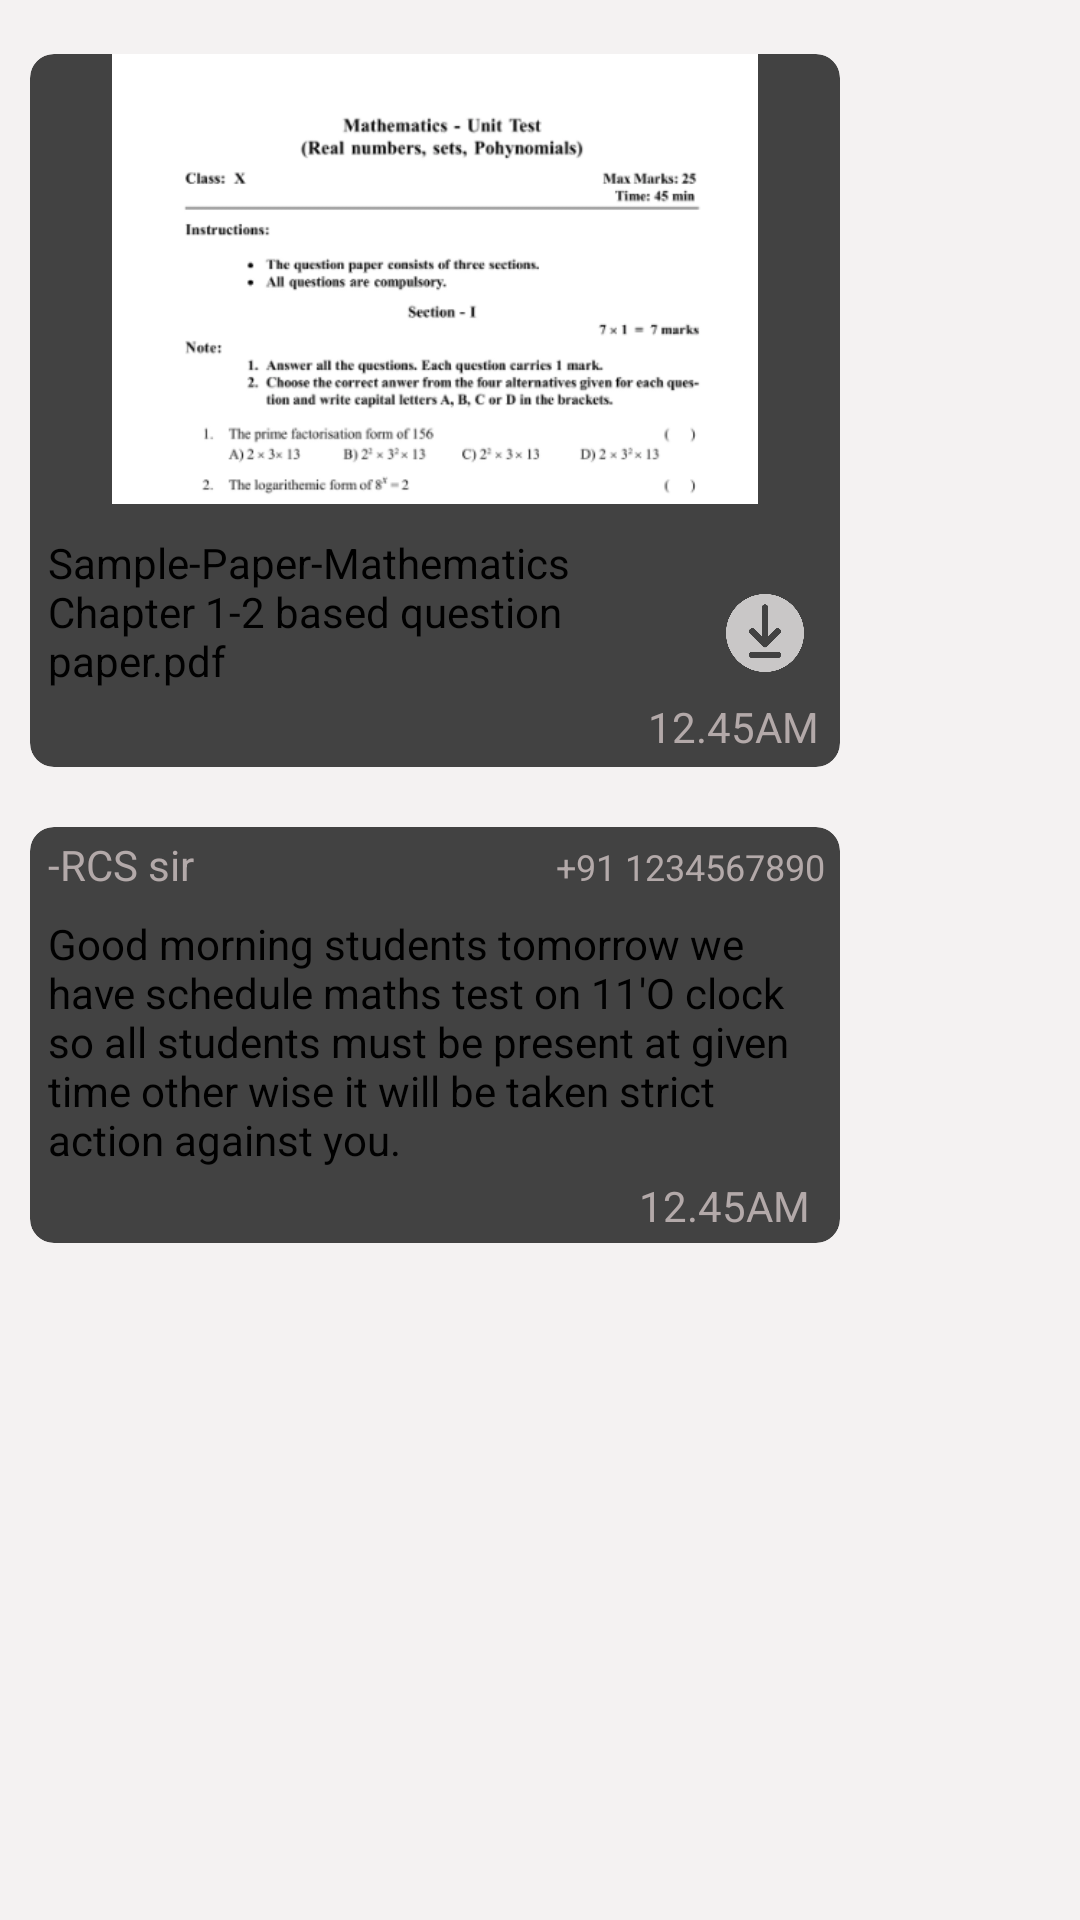

Screen size 1080x1920. Icon name, then its center in pixels as (x,y):
downloading: (765,633)
